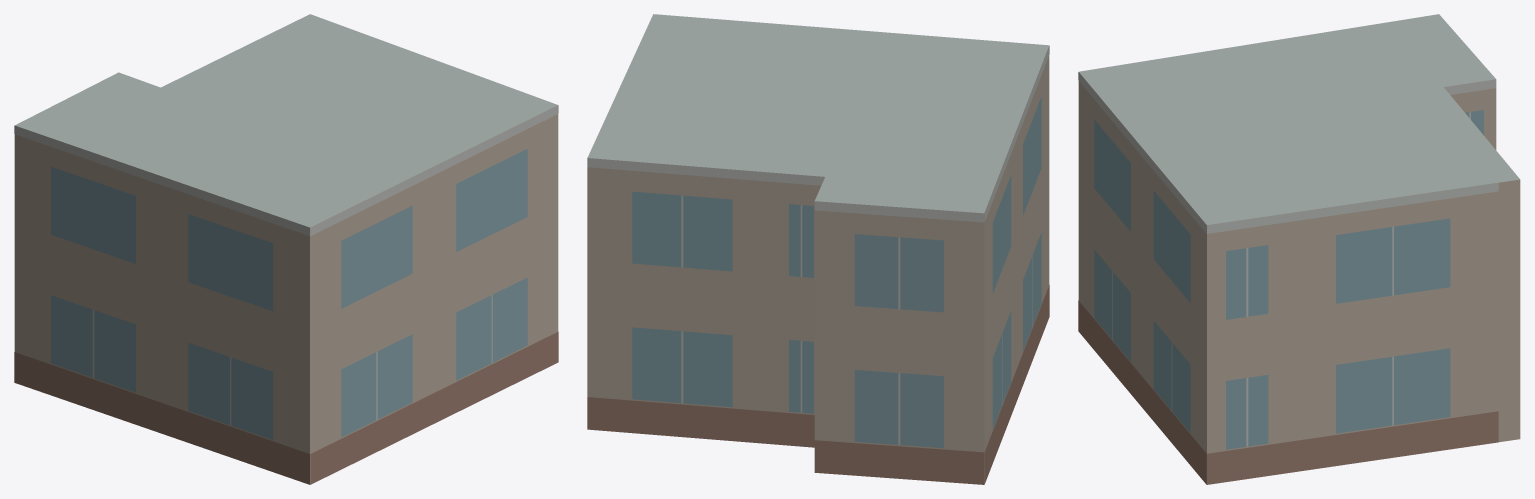
File: survey-upis-32748982.glb
The picture shows the model from 3 angles, left to right: view 1: azimuth 30°, elevation 25°; view 2: azimuth 150°, elevation 25°; view 3: azimuth 270°, elevation 25°; orthographic projection. The views are drawn at different scales.
Parts seen in each view (by area): view 1: survey-upis-32748982.tmp; view 2: survey-upis-32748982.tmp; view 3: survey-upis-32748982.tmp.
Boxes of the visible parts, left/top/right/bottom form: survey-upis-32748982.tmp: left=14, top=14, right=558, bottom=484; survey-upis-32748982.tmp: left=587, top=14, right=1049, bottom=484; survey-upis-32748982.tmp: left=1078, top=14, right=1520, bottom=484.
Size of the model in its own units: 12.57 by 7.2 by 11.11.
